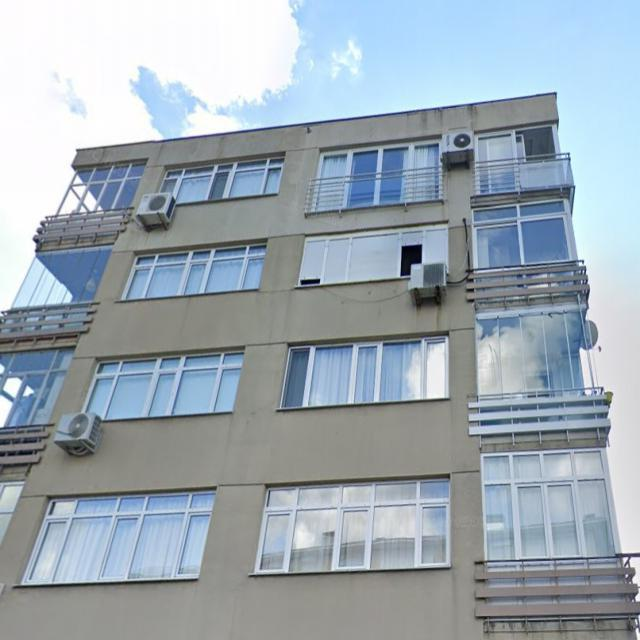Building: (0, 92, 639, 640)
